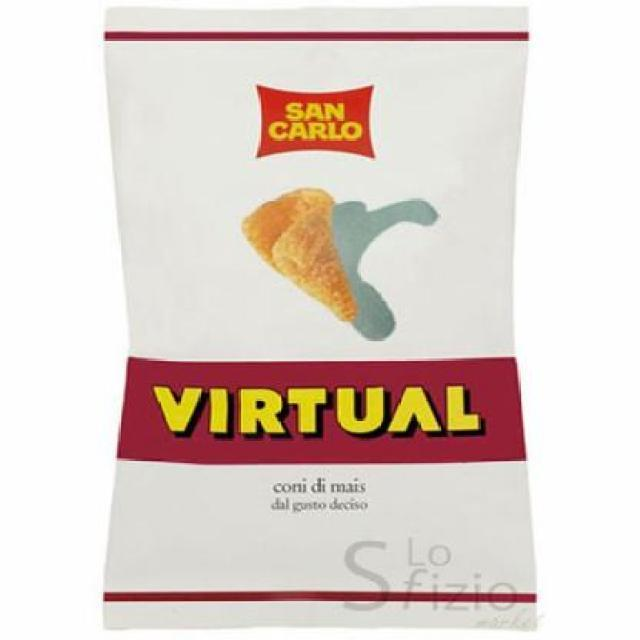Chips: (89, 1, 554, 640)
